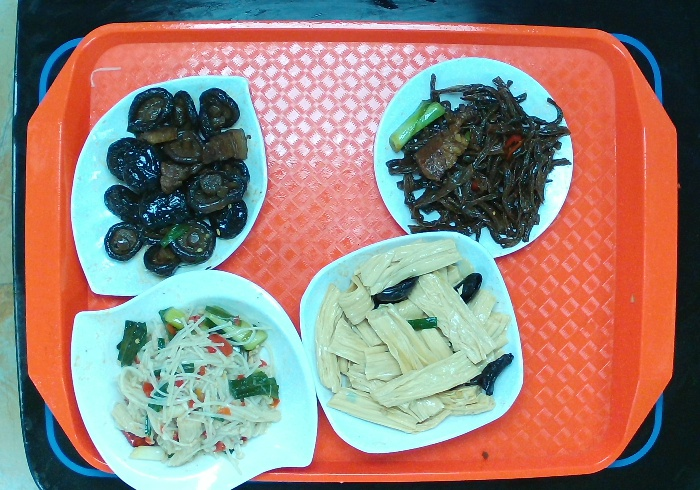RJxy-Da_Du_Pan: (68, 71, 270, 297)
RJxy-Shuang_Jiao_Pan: (69, 265, 319, 490)
RJxy-Si_Fang_Wan: (296, 232, 528, 452)
RJxy-Xiao_Yuan_Die: (374, 52, 581, 260)
